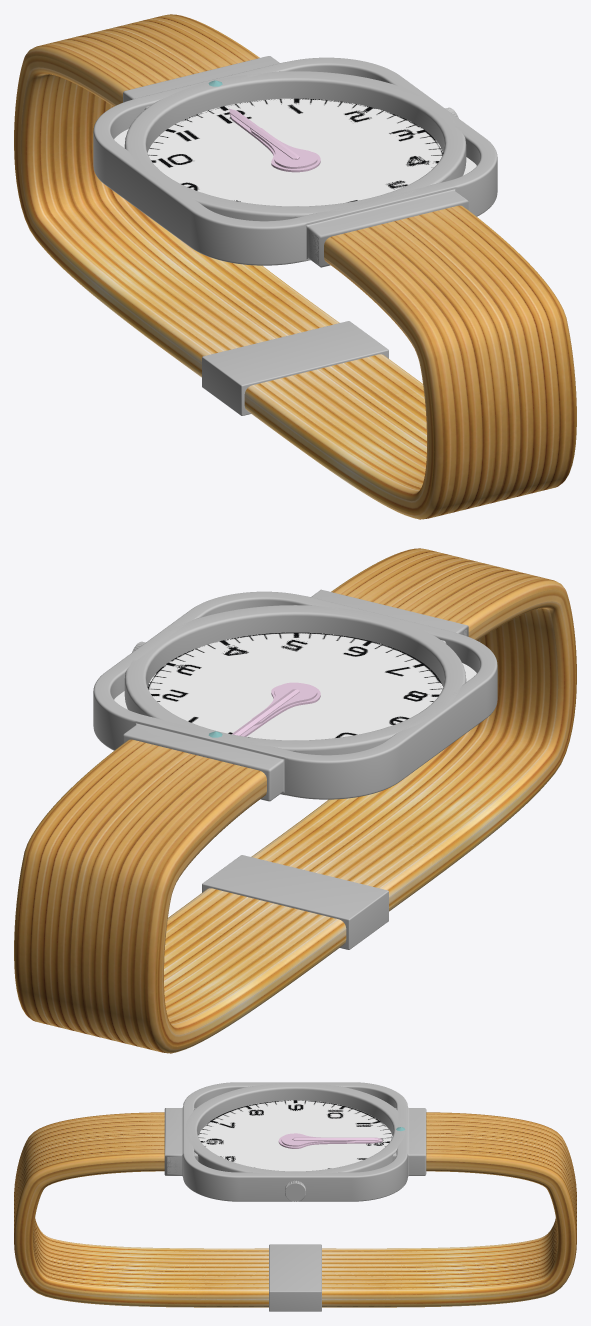
Rendered from montre.dae.
The picture shows the model from 3 angles, top to bottom: view 1: azimuth 30°, elevation 25°; view 2: azimuth 150°, elevation 25°; view 3: azimuth 270°, elevation 25°; orthographic projection. The views are drawn at different scales.
Visible parts, largest first — view 1: bracelet, boitier_carre, boitier_rond, fermoir, aiguille_heures; view 2: bracelet, boitier_rond, boitier_carre, fermoir, aiguille_heures; view 3: bracelet, boitier_rond, boitier_carre, fermoir, aiguille_heures, bouton, aiguille_secondes, aiguille_minutes.
Boxes of the visible parts, x1,y1,x2,y2 form: bracelet: [14, 14, 576, 519]; boitier_carre: [93, 56, 497, 267]; boitier_rond: [124, 57, 466, 263]; fermoir: [202, 321, 388, 415]; aiguille_heures: [250, 128, 317, 168]; bracelet: [14, 548, 576, 1053]; boitier_rond: [124, 591, 466, 797]; boitier_carre: [93, 589, 497, 801]; fermoir: [202, 855, 388, 949]; aiguille_heures: [251, 682, 317, 725]; bracelet: [14, 1112, 576, 1307]; boitier_rond: [167, 1082, 423, 1180]; boitier_carre: [164, 1082, 426, 1201]; fermoir: [269, 1244, 321, 1311]; aiguille_heures: [281, 1133, 355, 1146]; bouton: [285, 1180, 305, 1201]; aiguille_secondes: [292, 1137, 381, 1140]; aiguille_minutes: [278, 1136, 382, 1148].
Size of the model in its own units: 41.3 by 100 by 31.66.
Materials: 5 (2 with a texture image).
